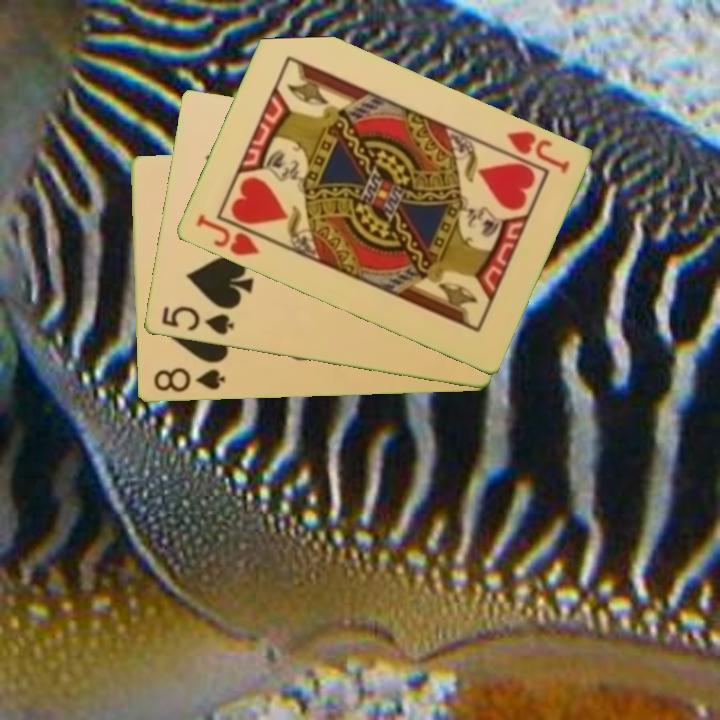5s: (157, 303, 237, 338)
8s: (150, 364, 228, 396)
Jh: (502, 127, 572, 177), (191, 210, 262, 259)
